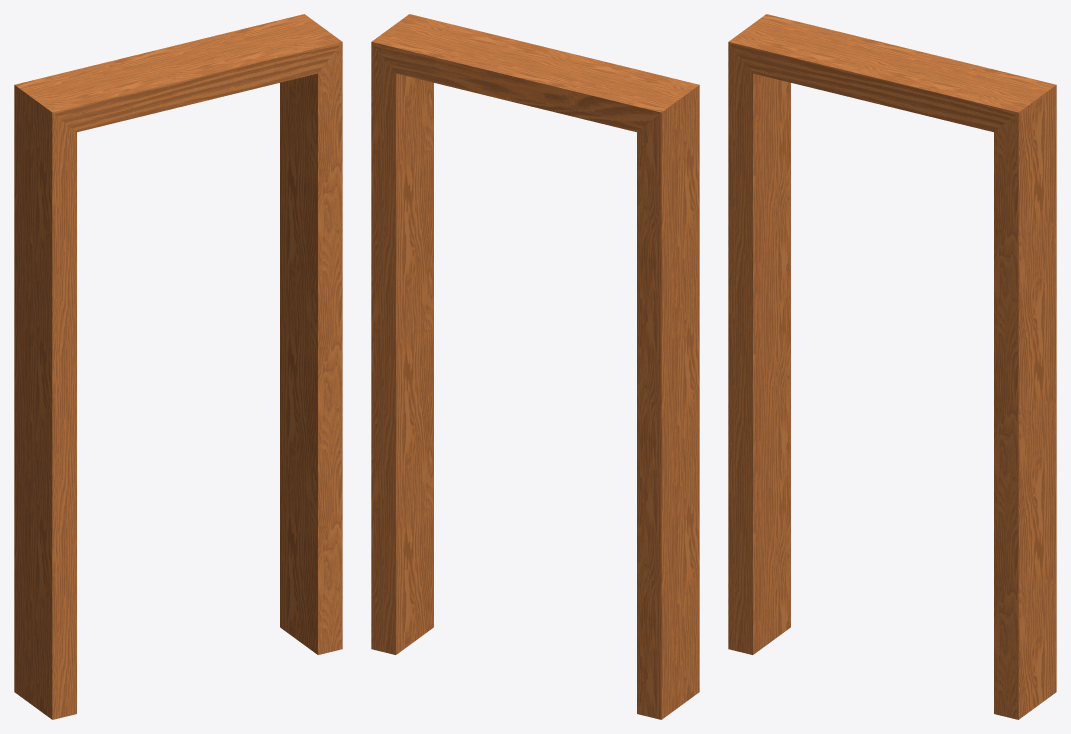
File: door_022.fbx
The picture shows the model from 3 angles, left to right: view 1: azimuth 30°, elevation 25°; view 2: azimuth 150°, elevation 25°; view 3: azimuth 330°, elevation 25°; orthographic projection.
Visible parts, largest first — view 1: door_022; view 2: door_022; view 3: door_022.
Boxes of the visible parts, left/top/right/bottom form: door_022: left=14, top=14, right=342, bottom=719; door_022: left=371, top=14, right=699, bottom=719; door_022: left=728, top=14, right=1056, bottom=719.
Size of the model in its own units: 115 by 26.01 by 229.
